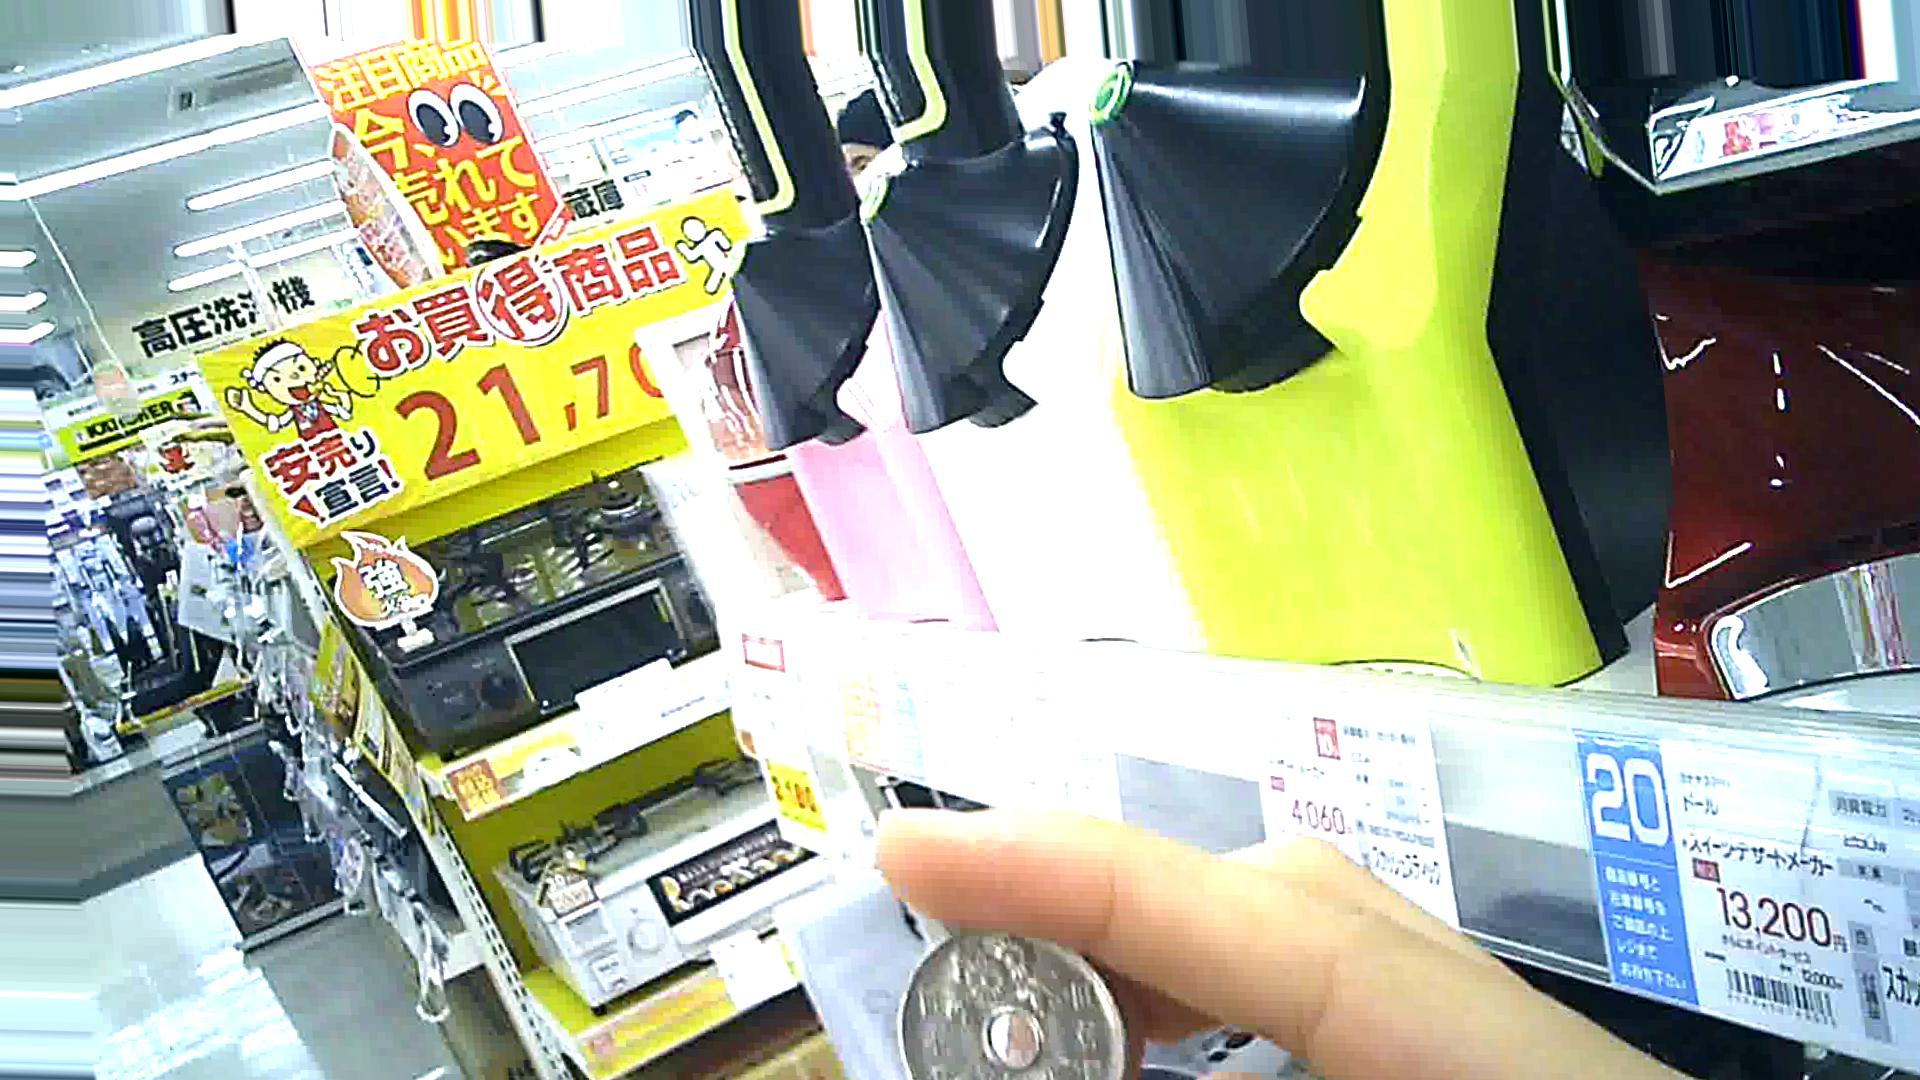50 Yen: (884, 905, 1142, 1079)
